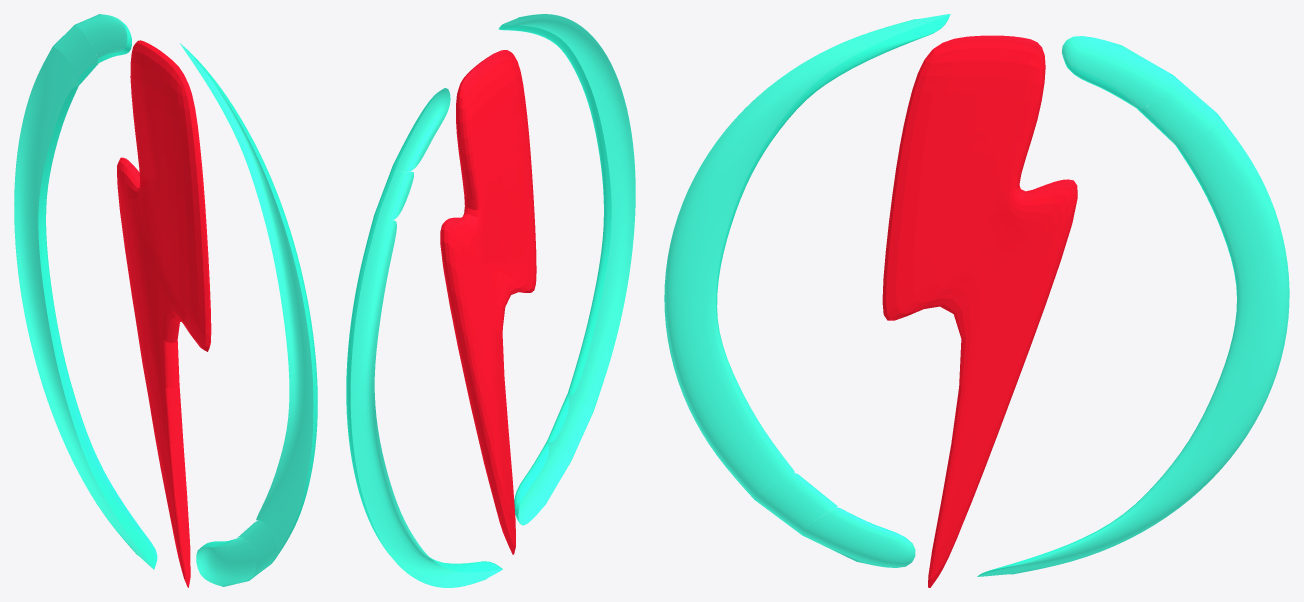
The model's file is POWERUP.fbx.
3 views of the same model, side by side, from view 1: azimuth 30°, elevation 25°; view 2: azimuth 150°, elevation 25°; view 3: azimuth 270°, elevation 25° (orthographic). The views are drawn at different scales.
Parts seen in each view (by area): view 1: Circle.001; view 2: Circle.001; view 3: Circle.001.
Boxes of the visible parts, x1,y1,x2,y2 form: Circle.001: (14,14,317,587); Circle.001: (346,14,635,587); Circle.001: (664,14,1289,587).
Size of the model in its own units: 9.63 by 202 by 199.
